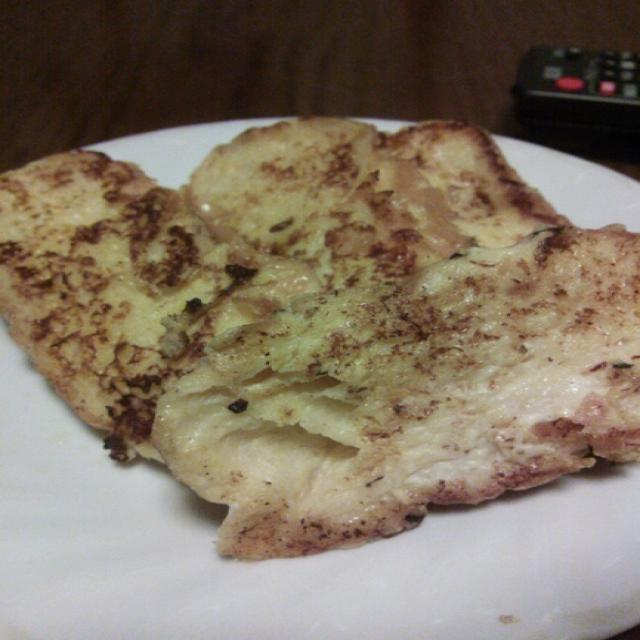面包点心: (14, 31, 626, 586)
